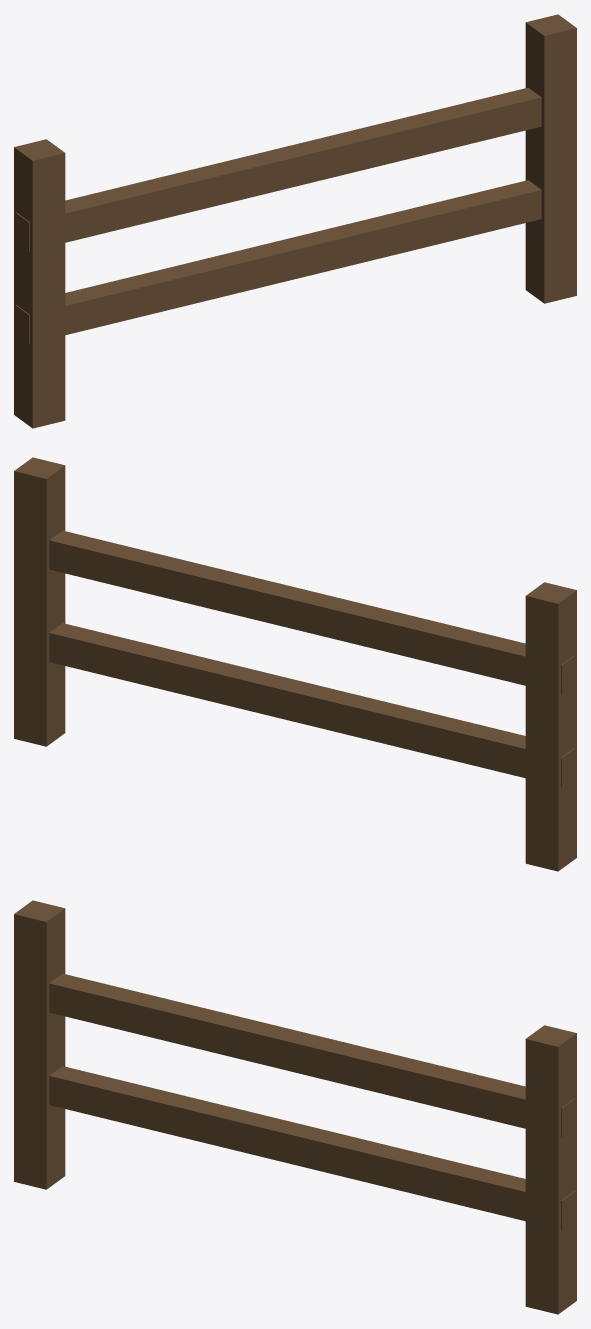
Rendered from field-fence-segment.glb.
3 views of the same model, one above another, from view 1: azimuth 30°, elevation 25°; view 2: azimuth 150°, elevation 25°; view 3: azimuth 330°, elevation 25° (orthographic).
Parts seen in each view (by area): view 1: rail-bottom, rail-top, post-left, post-right; view 2: rail-bottom, rail-top, post-left, post-right; view 3: rail-bottom, rail-top, post-right, post-left.
Part boxes in pixels (box(x1,y1,x2,y2)): rail-bottom: box(15, 180, 541, 343); rail-top: box(15, 87, 541, 251); post-left: box(14, 139, 65, 428); post-right: box(525, 14, 576, 303); rail-bottom: box(49, 623, 575, 786); rail-top: box(49, 530, 575, 694); post-left: box(525, 582, 576, 871); post-right: box(14, 457, 65, 746); rail-bottom: box(49, 1066, 575, 1229); rail-top: box(49, 973, 575, 1137); post-right: box(525, 1025, 576, 1314); post-left: box(14, 900, 65, 1189).
Bounding box in the file's own units: 2.35 × 1.1 × 0.14.
